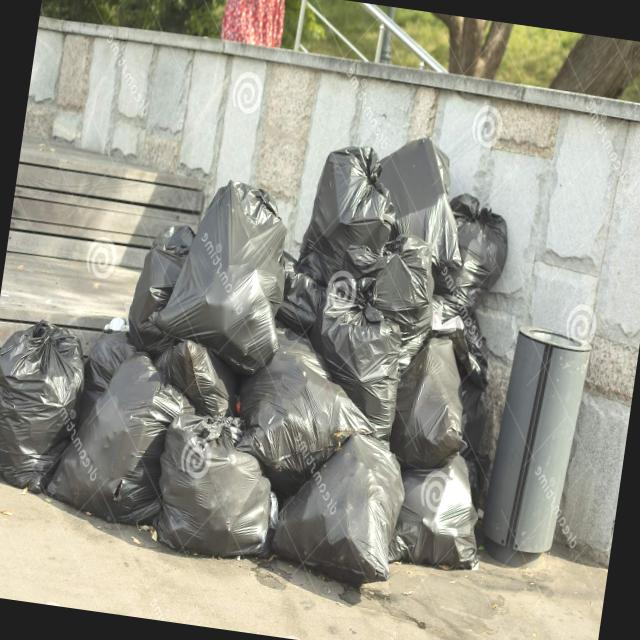garbage: (0, 89, 617, 611)
